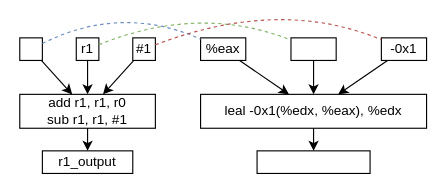
This 446x194 diagram has some shape labels left out. Each missing label, with the centre of its shape:
%edx: the point at 313,48
%edx_output: the point at 313,161
r0: the point at 30,48
